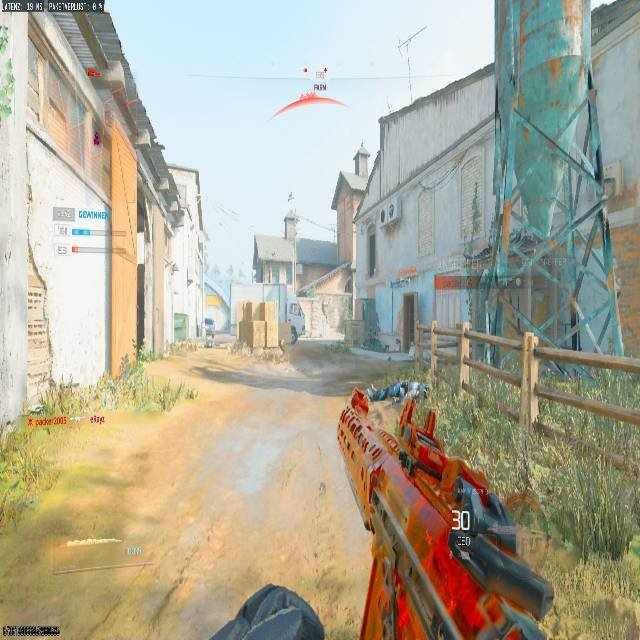player: (203, 317, 216, 347)
